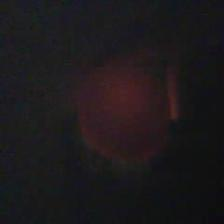fertile: (72, 56, 172, 169)
